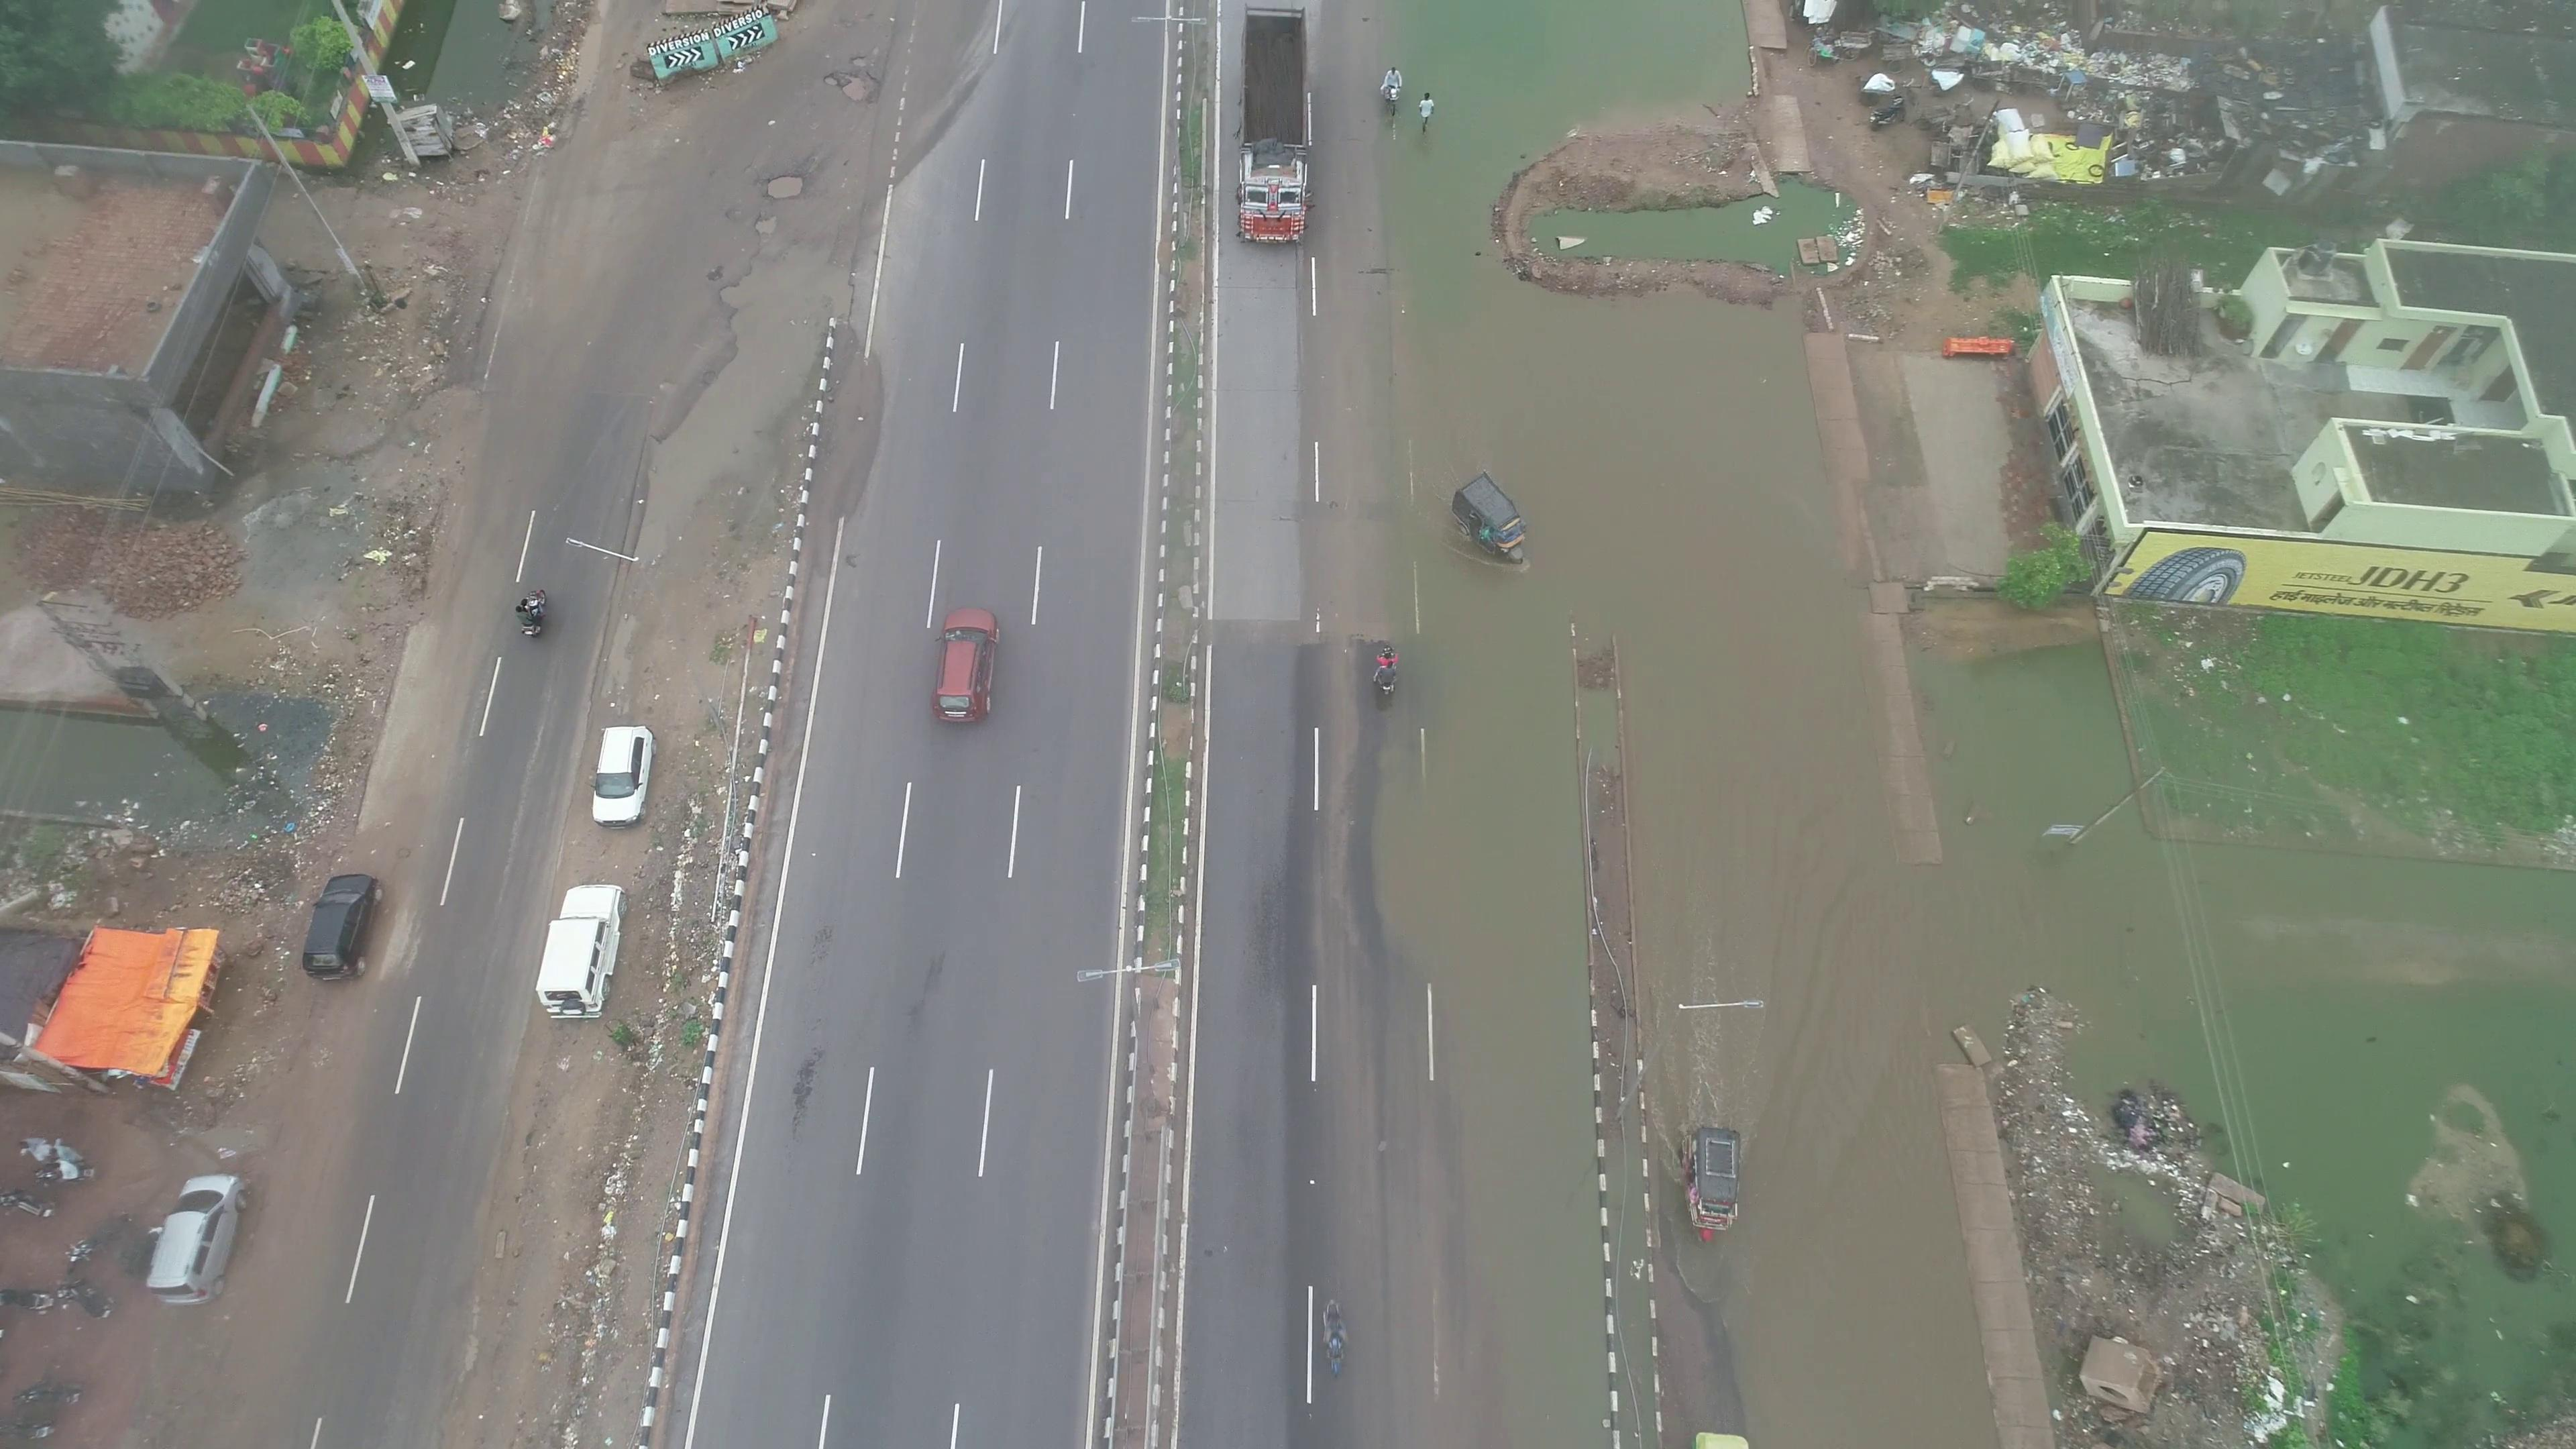Potholes: (796, 27, 893, 122), (718, 134, 835, 203)
Waterlogging: (1428, 283, 1870, 810), (1652, 839, 1983, 1428), (1392, 644, 1596, 1399)
